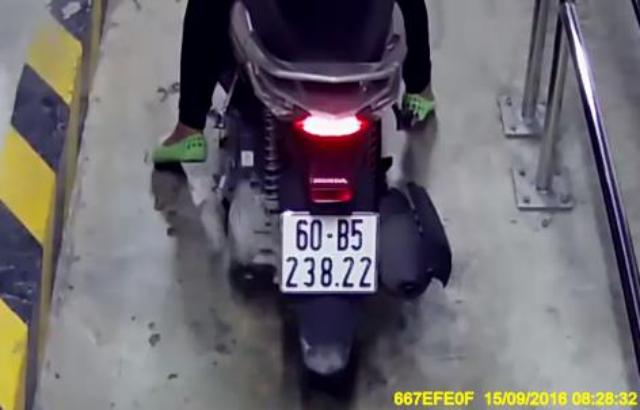plate: (267, 205, 387, 301)
